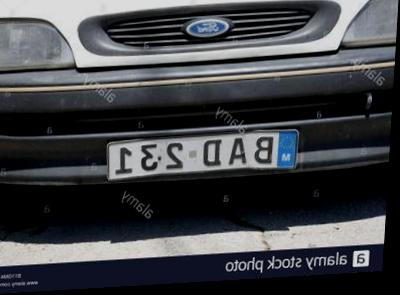License_Plate: (116, 126, 302, 187)
